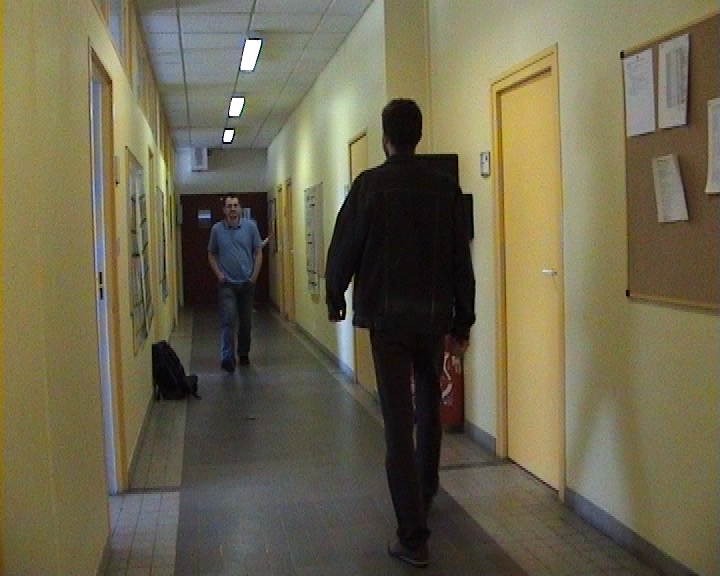leave bag unattended: (135, 330, 209, 426)
